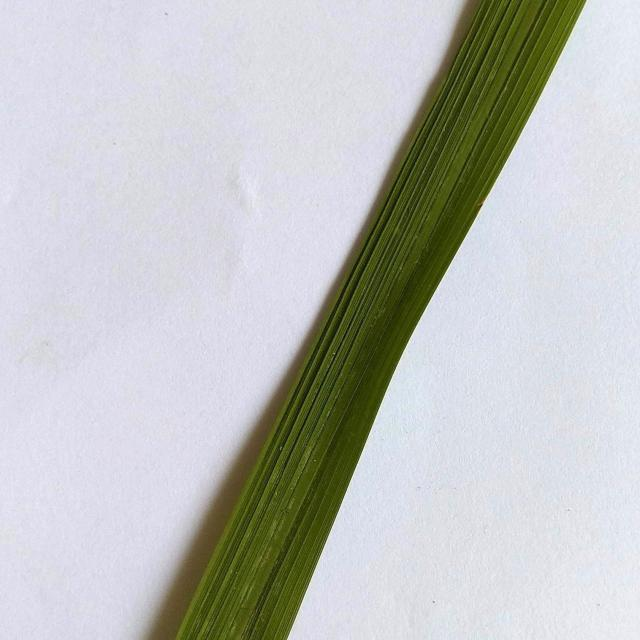healthy: (153, 0, 596, 640)
